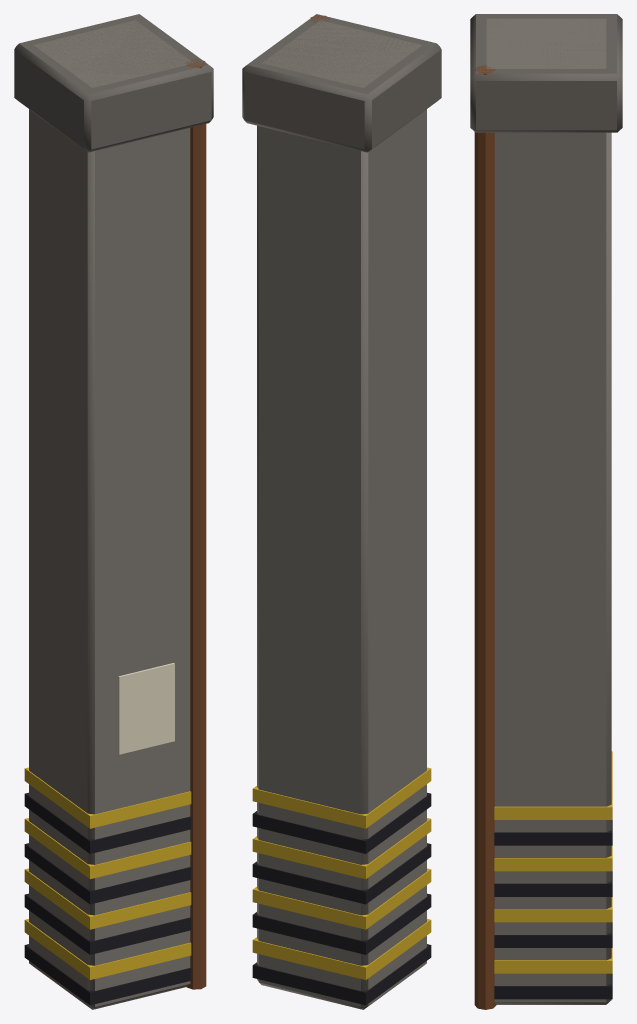
The model's file is concrete_pillar.glb.
3 renders of one model, left to right at view 1: azimuth 30°, elevation 25°; view 2: azimuth 150°, elevation 25°; view 3: azimuth 270°, elevation 25°, orthographic.
Visible parts, largest first — view 1: concrete_pillar; view 2: concrete_pillar; view 3: concrete_pillar.
Part boxes in pixels (x1,y1,x2,y2): concrete_pillar: [14, 14, 213, 1009]; concrete_pillar: [242, 14, 441, 1009]; concrete_pillar: [470, 14, 622, 1009].
Size of the model in its own units: 1.4 by 9.5 by 1.4.
